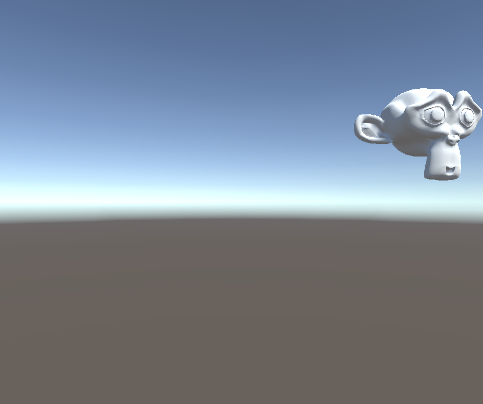monkey: (353, 84, 483, 182)
